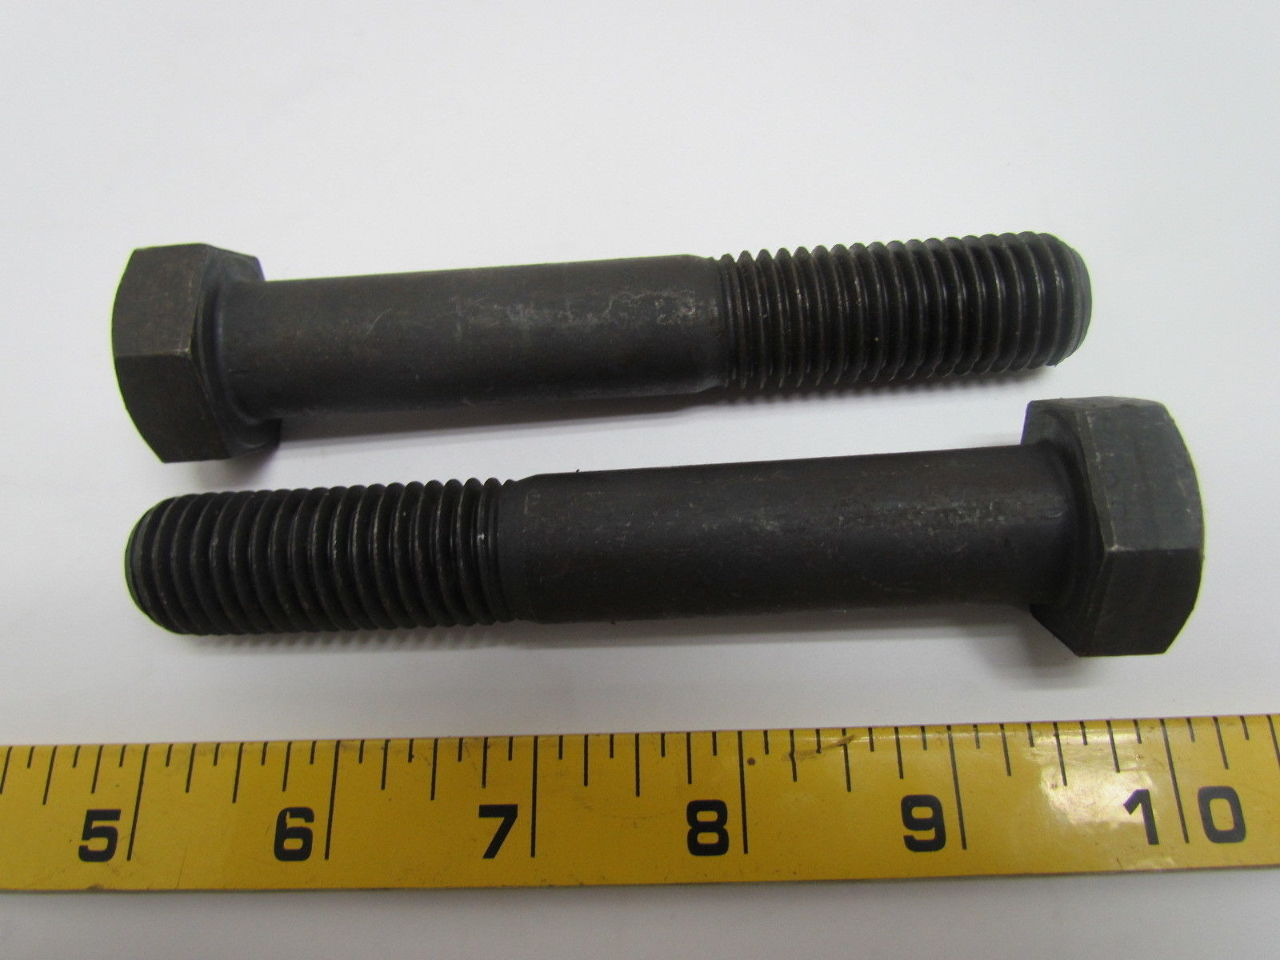screw: (124, 394, 1204, 659), (114, 230, 1094, 464)
